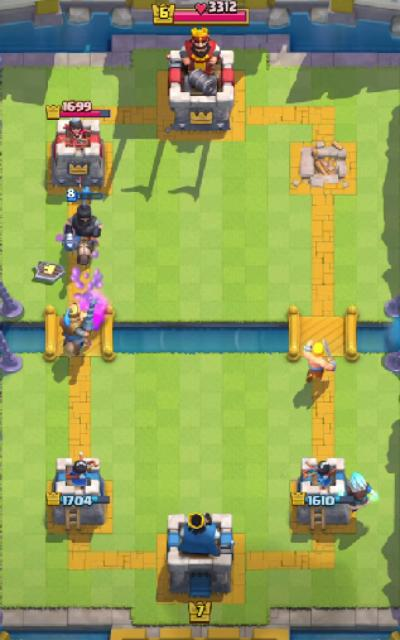ally_melee: (64, 188, 104, 264), (59, 299, 97, 359), (303, 339, 339, 381)
